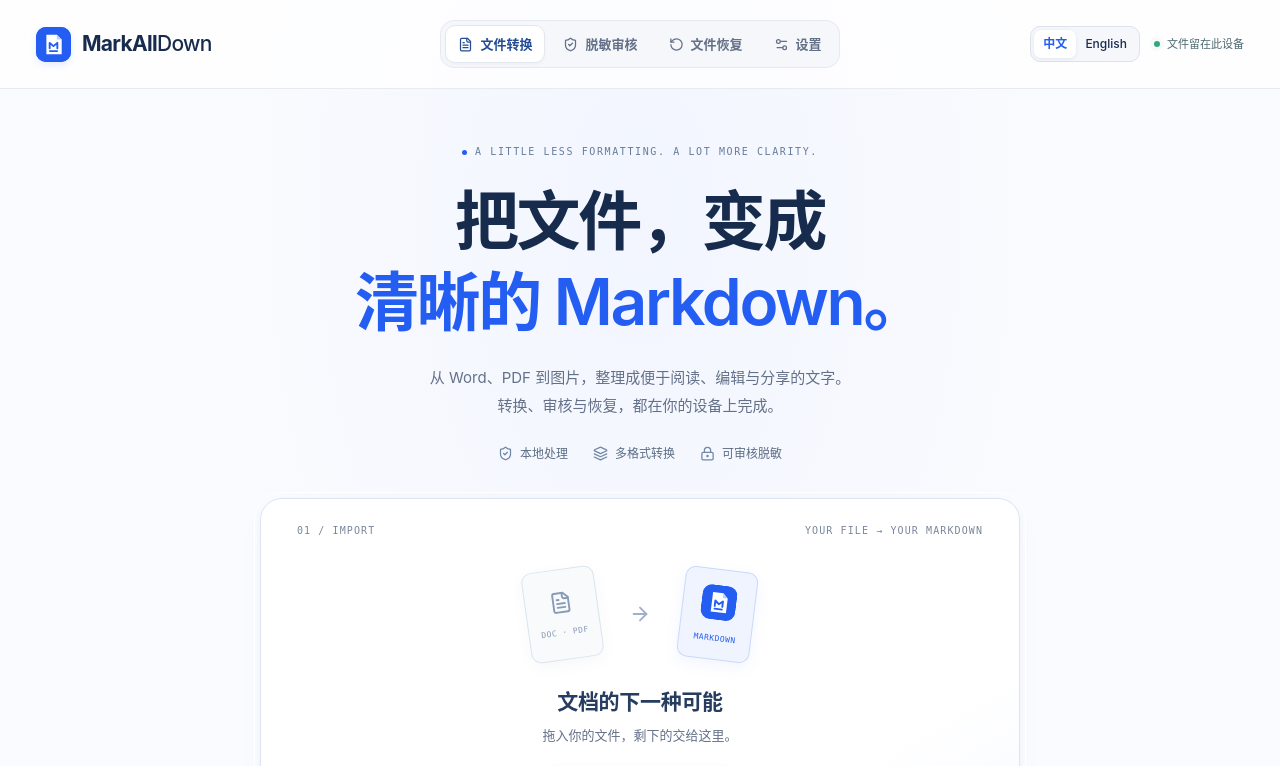
keeps preparation clickable even when automatic readiness stays pending
Click the button "设置": (798, 44) [760, 25, 834, 63]
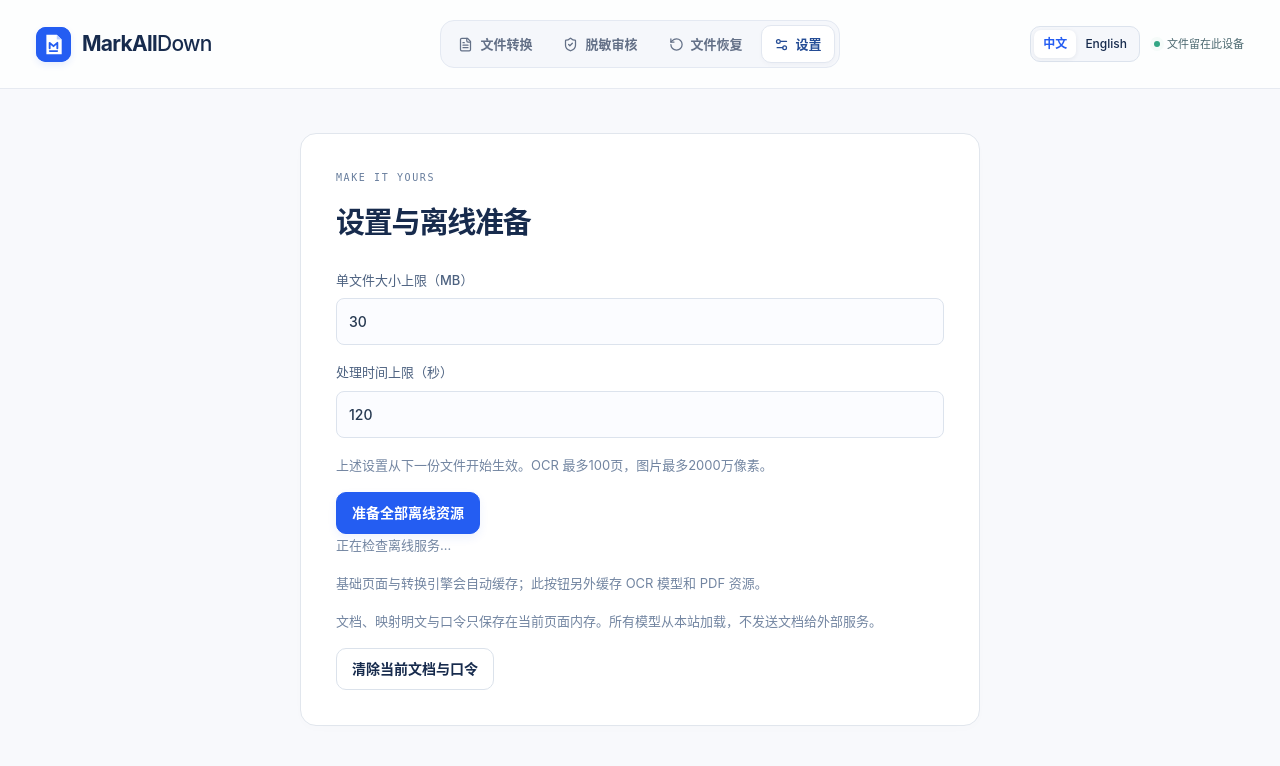
Expected: the button "准备全部离线资源" is enabled, [336, 492, 480, 534]
Now the text "正在检查离线服务…" is shown, box [336, 537, 451, 553]
